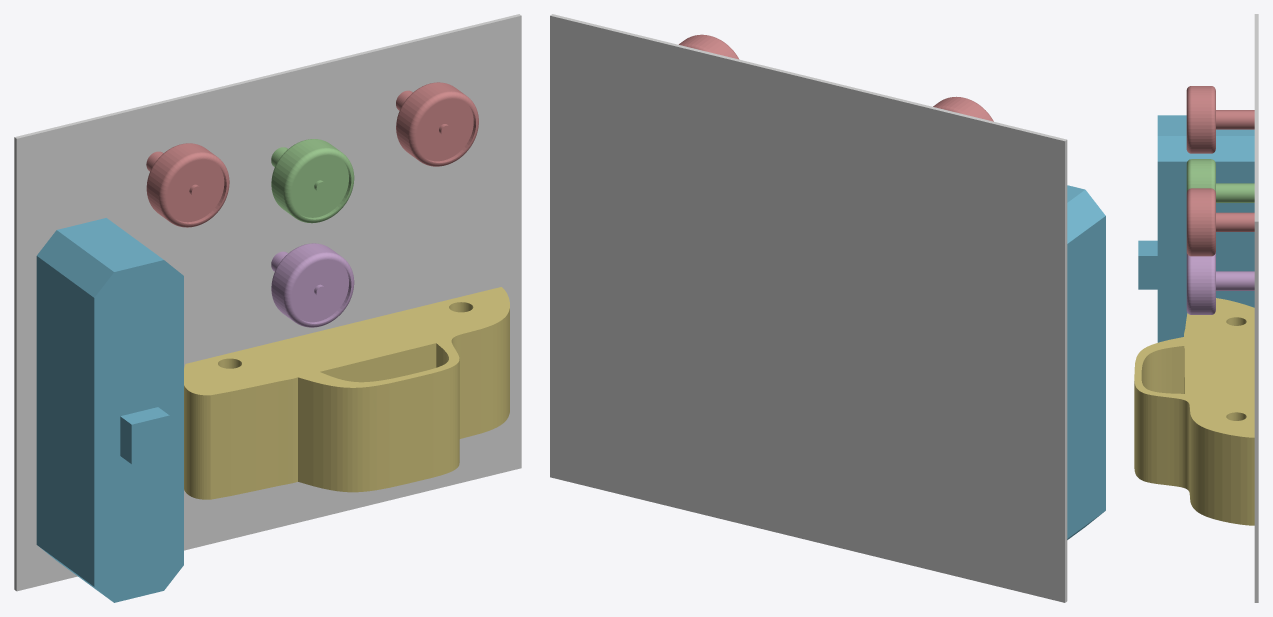
The model's file is pickup_layout.glb.
3 renders of one model, left to right at view 1: azimuth 30°, elevation 25°; view 2: azimuth 150°, elevation 25°; view 3: azimuth 270°, elevation 25°, orthographic. The views are drawn at different scales.
Parts seen in each view (by area): view 1: world, 2.obj, 1.obj, 5.obj, 3.obj, 4.obj, 0.obj; view 2: world, 2.obj, 0.obj, 5.obj; view 3: 1.obj, 2.obj, world, 0.obj, 5.obj, 3.obj, 4.obj.
Part boxes in pixels (box(x1,y1,x2,y2)): world: box(14, 14, 521, 591); 2.obj: box(36, 218, 183, 602); 1.obj: box(184, 287, 509, 499); 5.obj: box(146, 143, 229, 227); 3.obj: box(271, 243, 354, 327); 4.obj: box(271, 139, 354, 223); 0.obj: box(396, 82, 478, 166); world: box(550, 14, 1067, 602); 2.obj: box(1067, 185, 1105, 539); 0.obj: box(679, 34, 739, 59); 5.obj: box(933, 96, 993, 121); 1.obj: box(1134, 298, 1254, 525); 2.obj: box(1138, 115, 1254, 342); world: box(1254, 14, 1258, 602); 0.obj: box(1186, 188, 1254, 256); 5.obj: box(1186, 86, 1254, 153); 3.obj: box(1186, 252, 1254, 314); 4.obj: box(1186, 159, 1254, 202).
Bounding box in the file's own units: 25.3 × 21.67 × 6.39.
